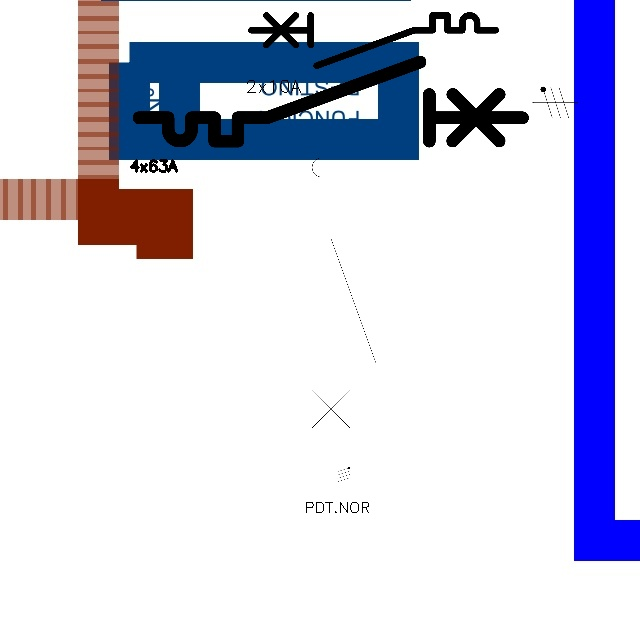interruptor_termomagnetico: (129, 52, 533, 151), (304, 126, 384, 454), (245, 9, 502, 72)
